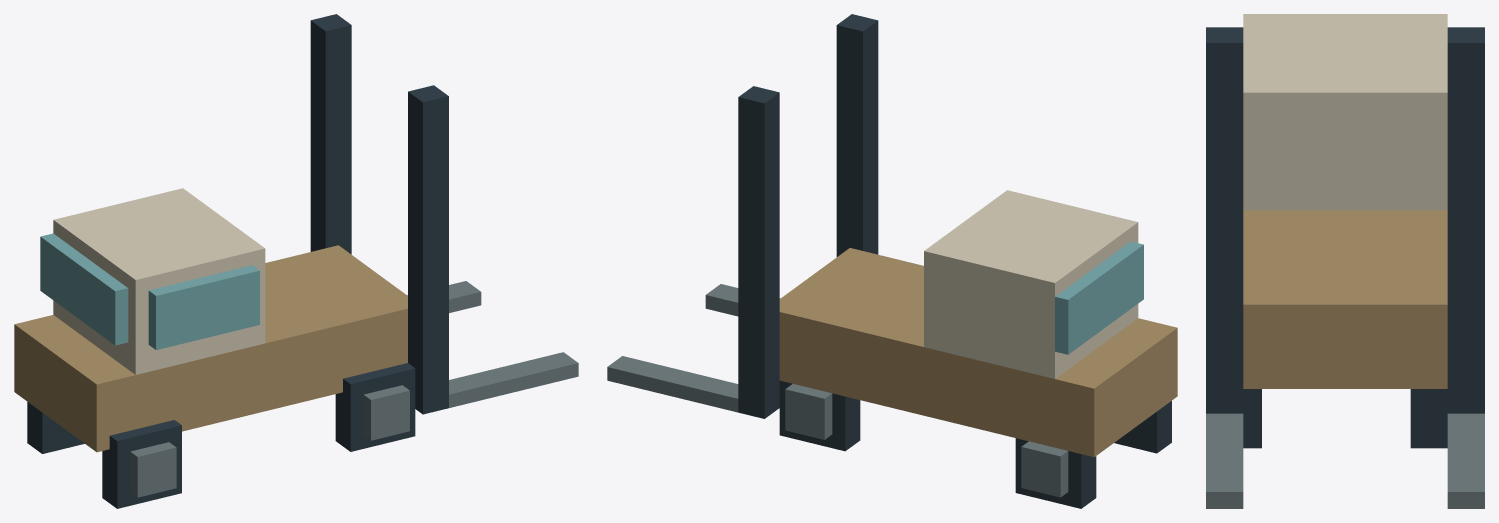
File: logistics-02.glb
The picture shows the model from 3 angles, left to right: view 1: azimuth 30°, elevation 25°; view 2: azimuth 150°, elevation 25°; view 3: azimuth 270°, elevation 25°; orthographic projection. The views are drawn at different scales.
Visible parts, largest first — view 1: Forklift; view 2: Forklift; view 3: Forklift.
Boxes of the visible parts, x1,y1,x2,y2 form: Forklift: (14,14,578,508); Forklift: (607,14,1177,508); Forklift: (1206,14,1484,508).
Bounding box in the file's own units: 2.88 × 2 × 1.2.
